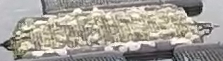bag: (15, 8, 201, 57)
